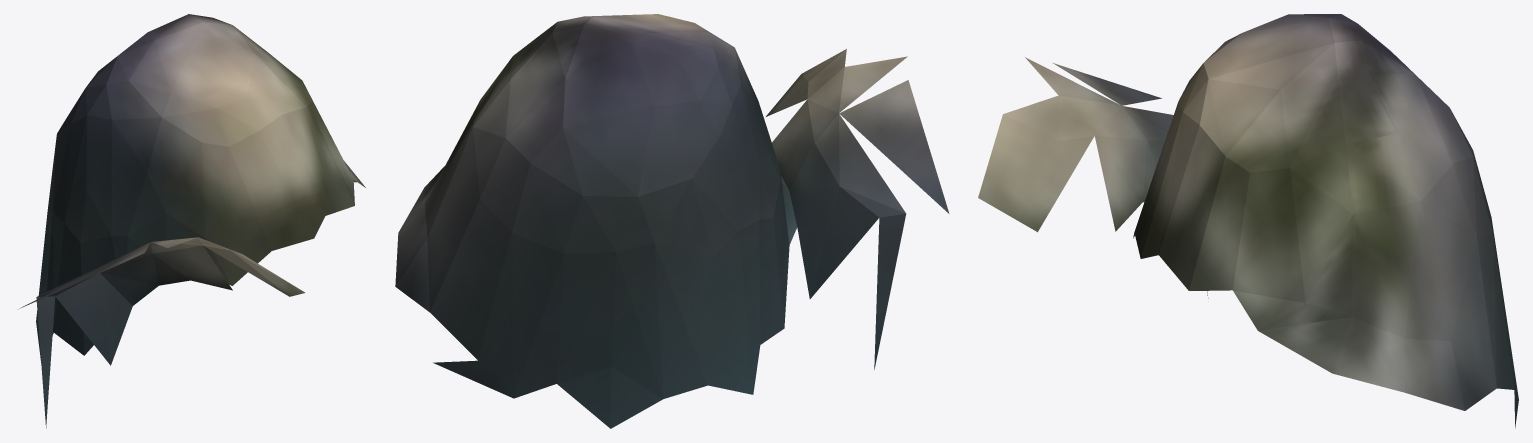
The model's file is terrain2_rock_1.glb.
3 views of the same model, side by side, from view 1: azimuth 30°, elevation 25°; view 2: azimuth 150°, elevation 25°; view 3: azimuth 270°, elevation 25° (orthographic). The views are drawn at different scales.
Visible parts, largest first — view 1: rock_1; view 2: rock_1; view 3: rock_1.
Part boxes in pixels (bbox=[...]): rock_1: bbox=[17, 14, 365, 428]; rock_1: bbox=[395, 14, 949, 428]; rock_1: bbox=[978, 14, 1518, 428].
Size of the model in its own units: 3.48 by 2.54 by 3.25.
Materials: 1 (1 with a texture image).
